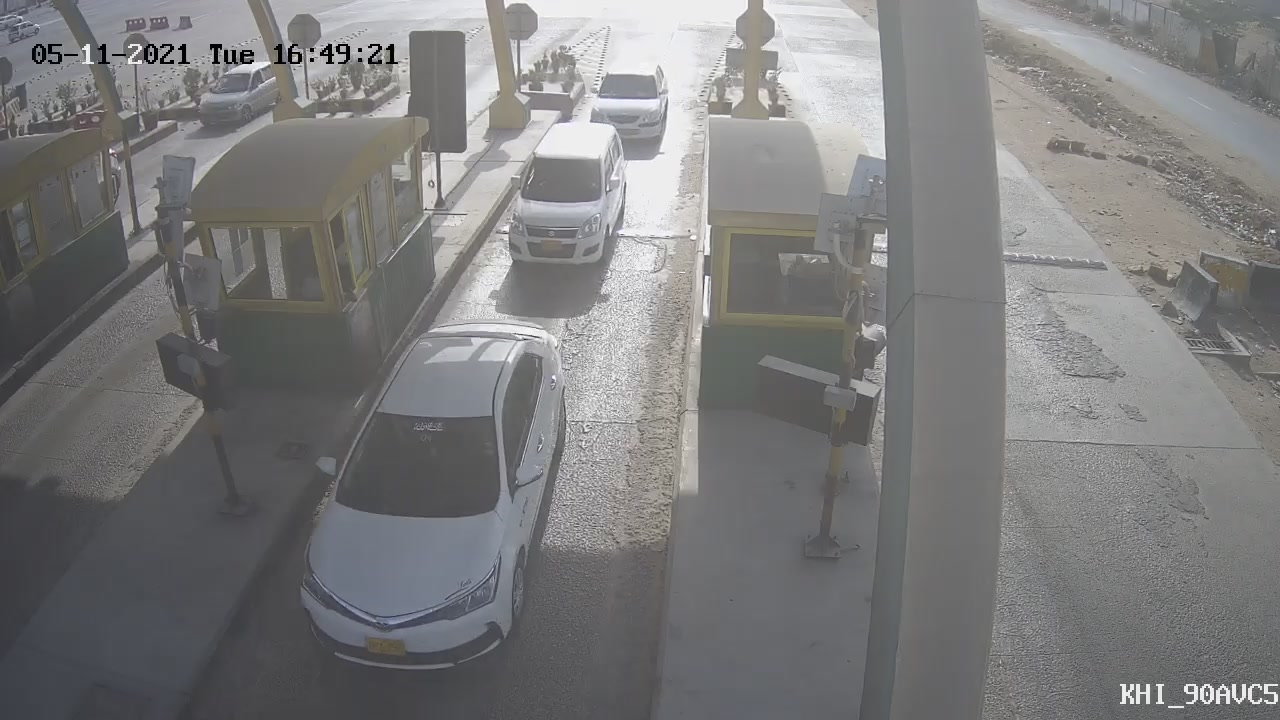F1: (490, 111, 643, 283), (582, 49, 679, 156)
